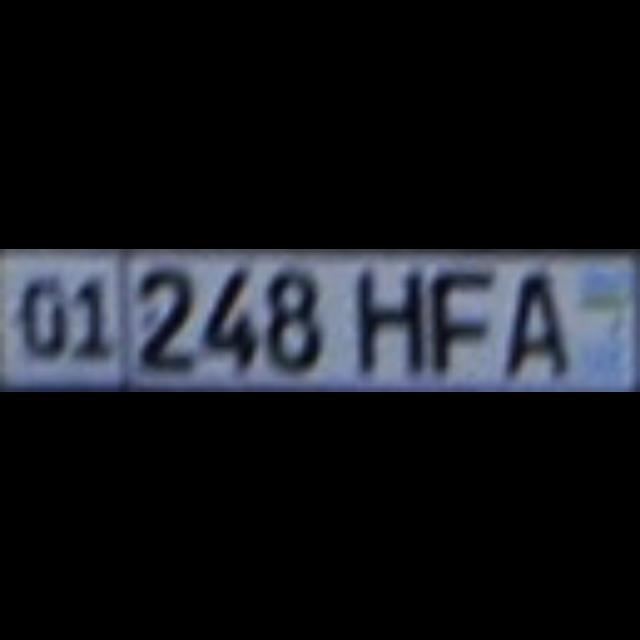0: (15, 272, 65, 352)
1: (64, 272, 110, 352)
2: (129, 263, 189, 367)
4: (198, 263, 254, 367)
8: (258, 263, 318, 367)
A: (501, 268, 565, 372)
F: (422, 262, 486, 372)
H: (352, 262, 416, 372)
